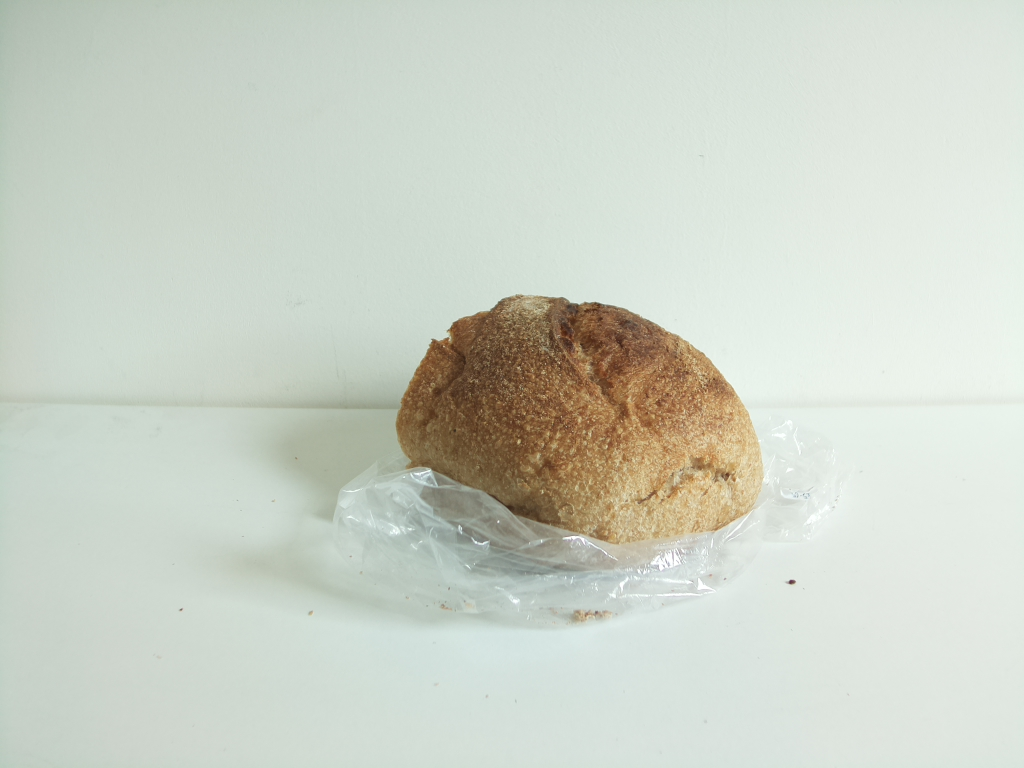bread: (391, 294, 770, 561)
